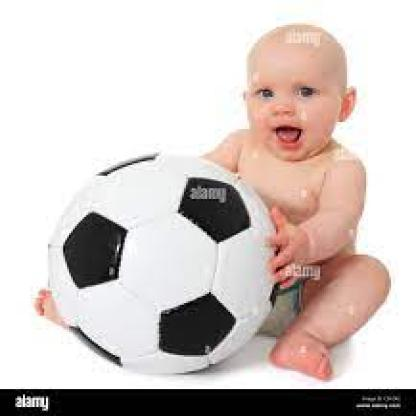ball: (48, 152, 278, 376)
